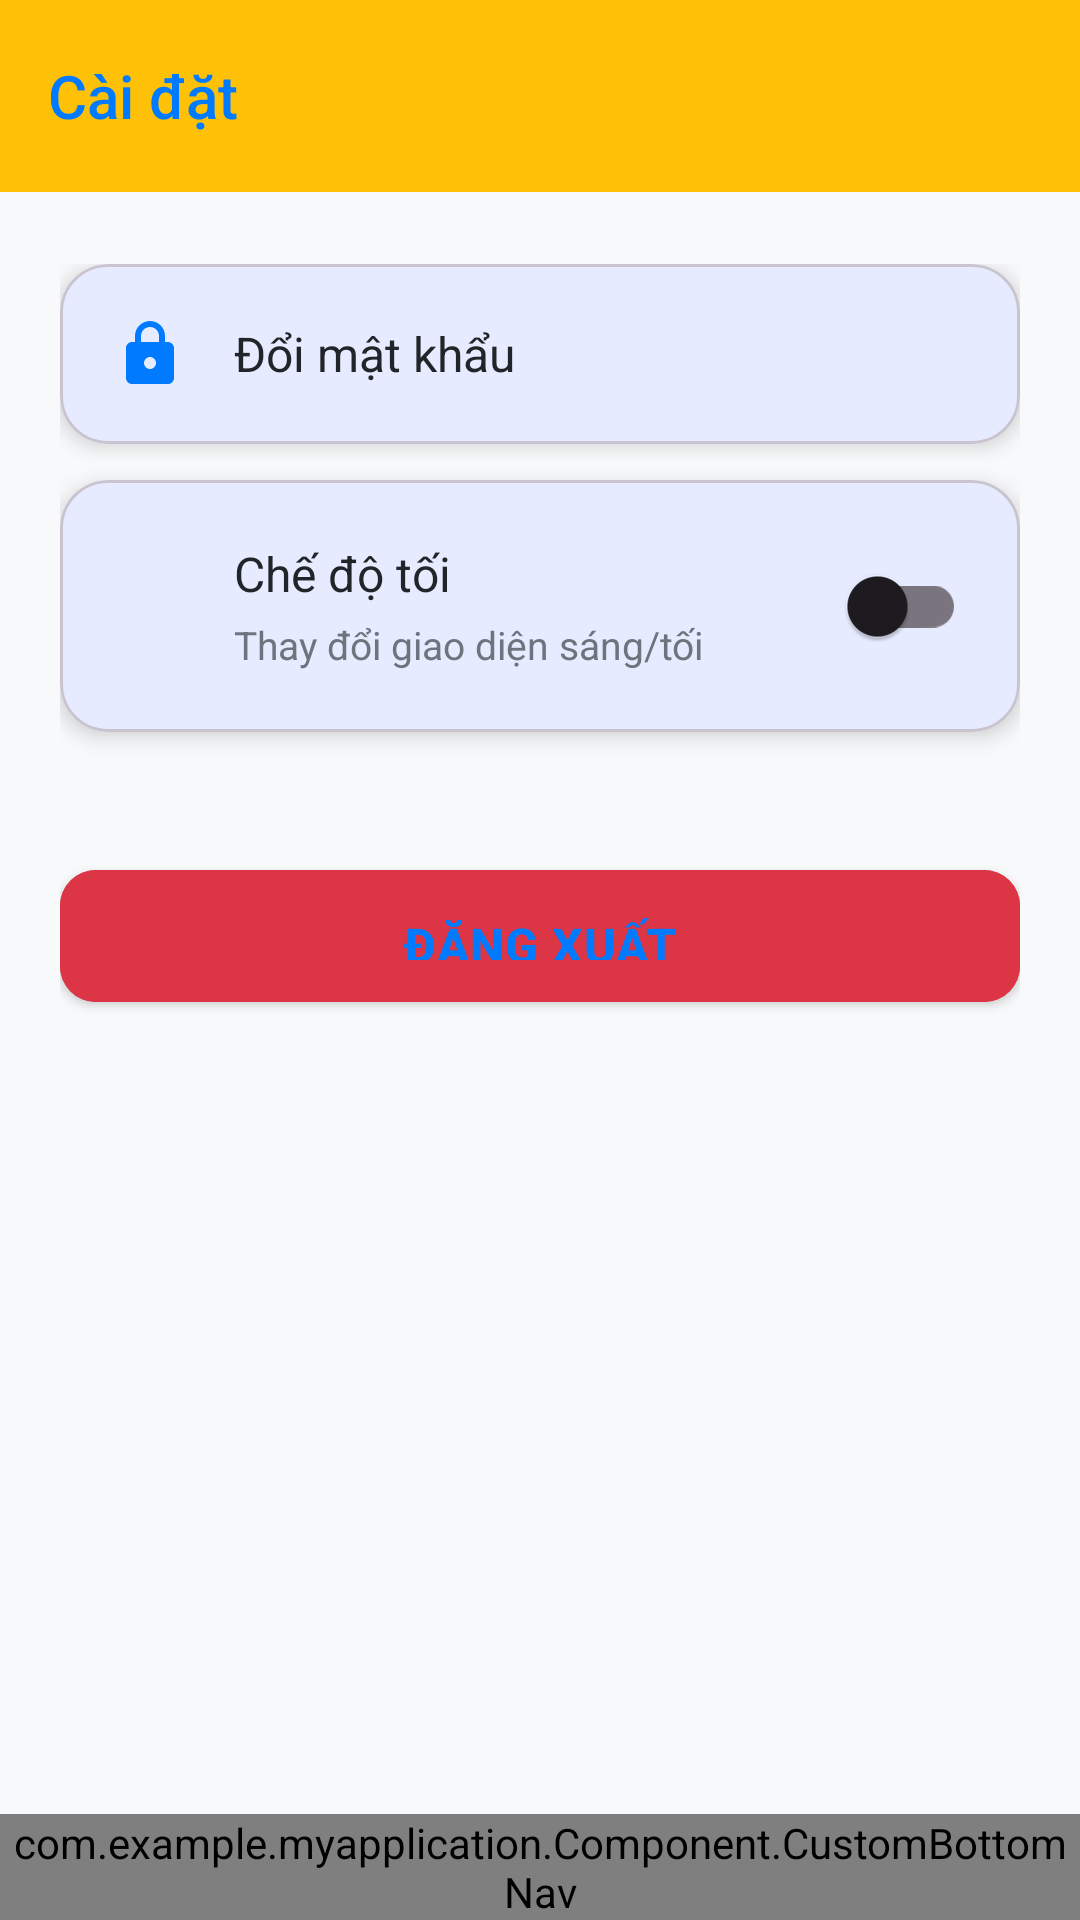

Screen size 1080×1920. Icon name, then its box in pixels as (x1, y1, x2, y2):
lock: (126, 321, 174, 384)
